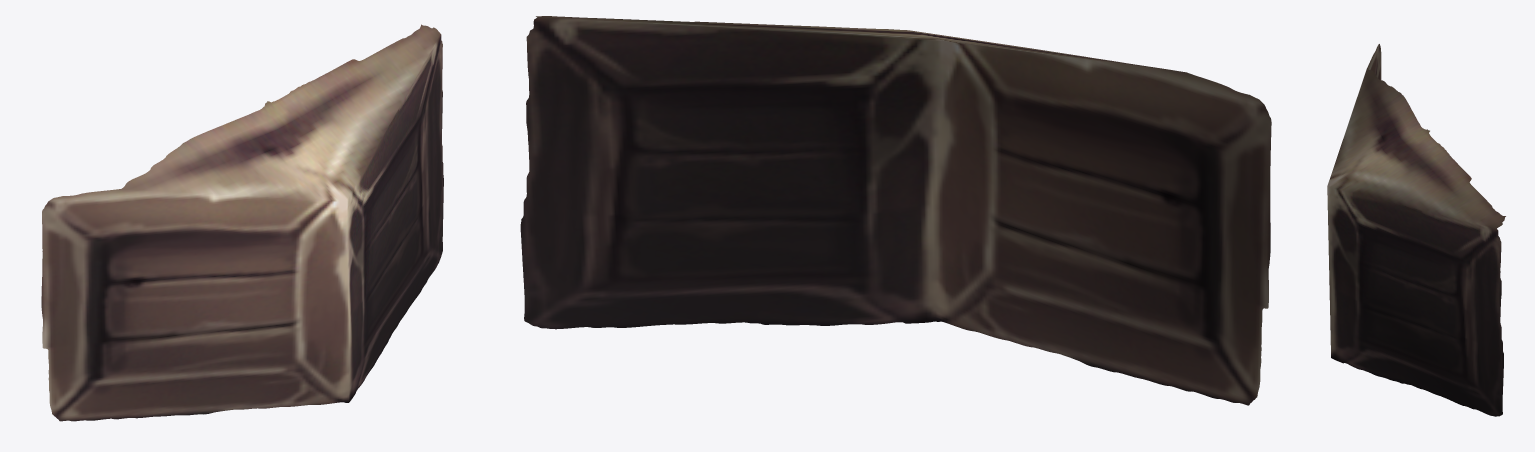
File: Crate C.FBX
The picture shows the model from 3 angles, left to right: view 1: azimuth 30°, elevation 25°; view 2: azimuth 150°, elevation 25°; view 3: azimuth 270°, elevation 25°; orthographic projection. The views are drawn at different scales.
Visible parts, largest first — view 1: Crate C; view 2: Crate C; view 3: Crate C.
Boxes of the visible parts, x1,y1,x2,y2 form: Crate C: (41, 24, 443, 421); Crate C: (520, 16, 1271, 405); Crate C: (1327, 44, 1505, 416).
Bounding box in the file's own units: 269 × 105 × 148.
